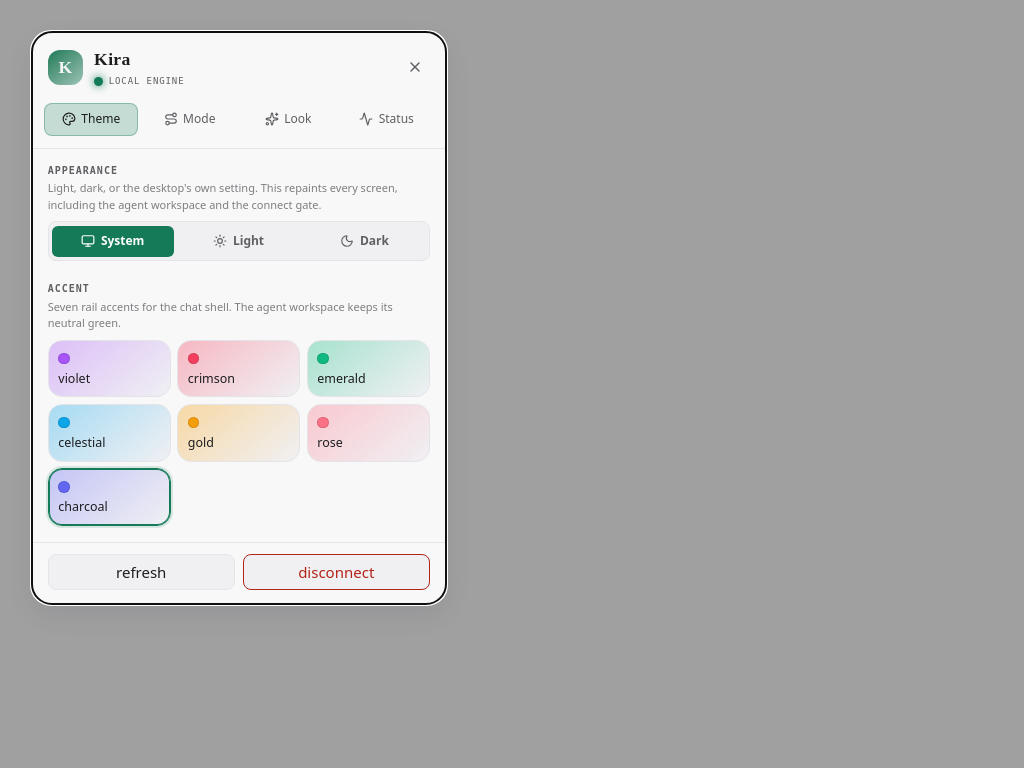
Test: options panel › shows the session and the provider ledger on Status
Click the tab "Status": (386, 119) [339,103,434,136]
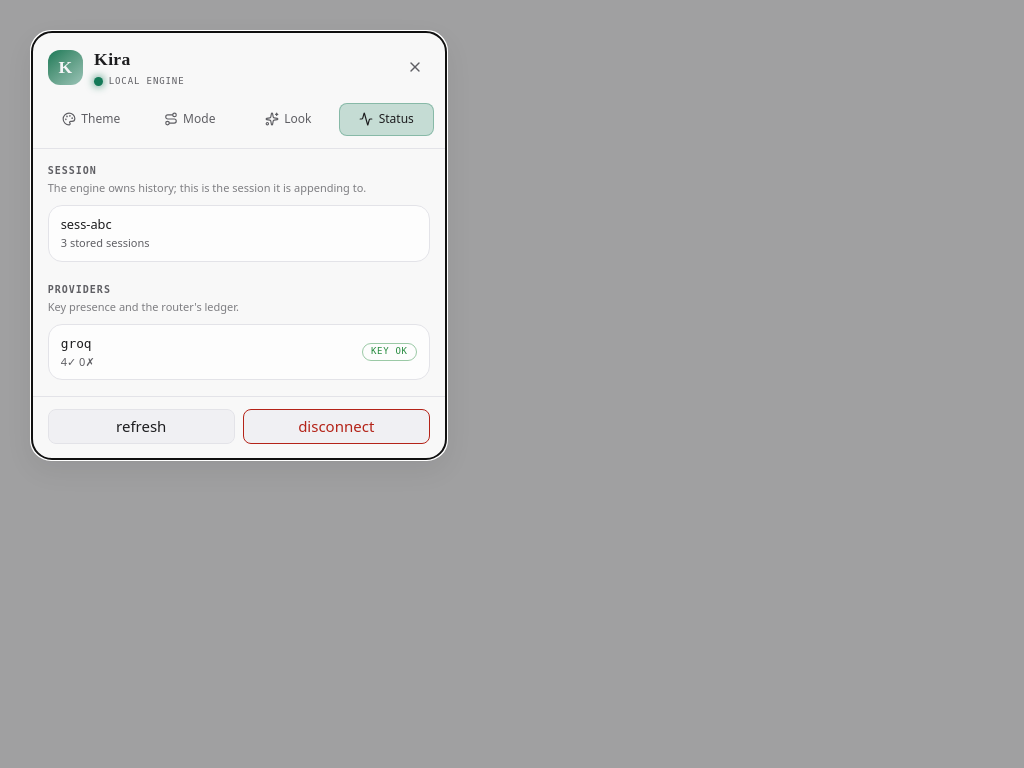
Check: the text "sess-abc" is shown, box [61,215,112,233]
Check: the text "groq" is shown, box [61,334,95,353]
Check: the text "key ok" is shown, box [362,343,417,360]
